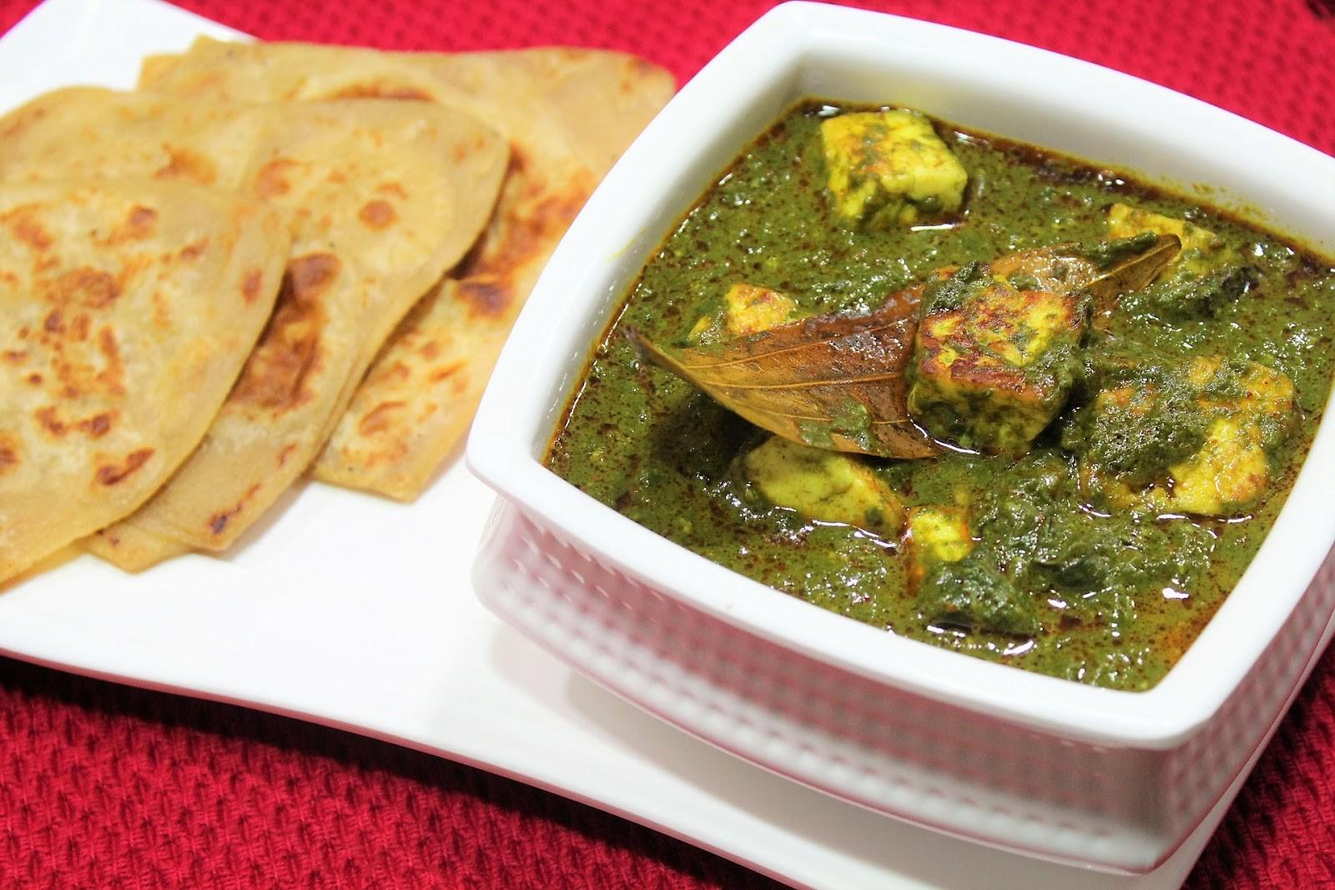PalakPaneer: (545, 90, 1335, 688)
